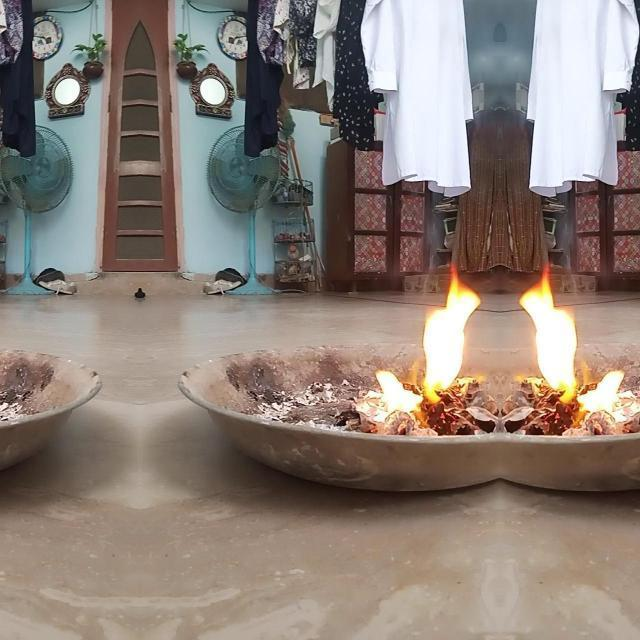smoke: (420, 262, 482, 398), (518, 262, 580, 398), (368, 368, 438, 432), (562, 368, 632, 432)
